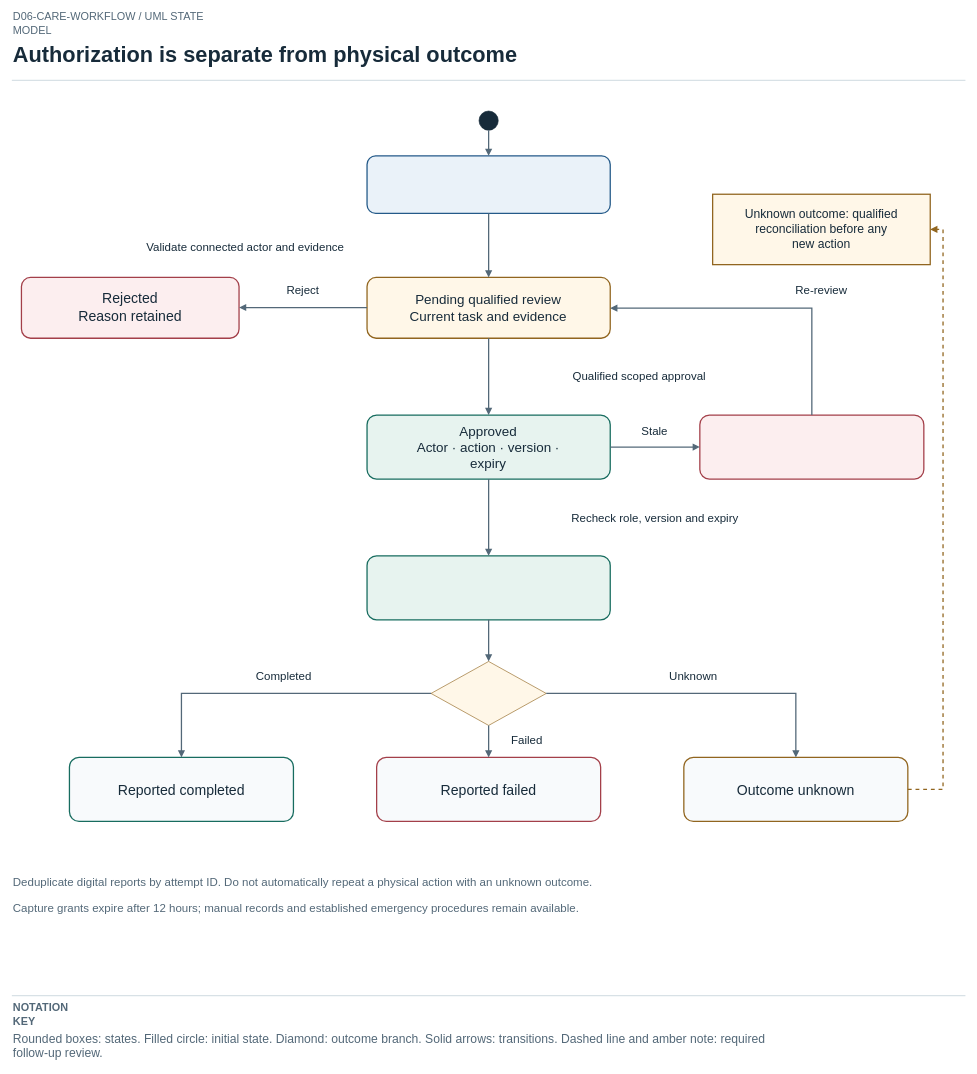
Image size: 977x1074. Some labels were removed from this diagram. Here are the shapes that lost their labels. From the top down, the box of each, then its label:
(366, 155, 611, 214): Observation draft Offline capture while grant valid
(699, 414, 924, 479): Invalidated / expired Review again
(366, 555, 611, 620): Action attempt authorized Attempt ID recorded
(430, 661, 546, 725): Reported Outcome?
